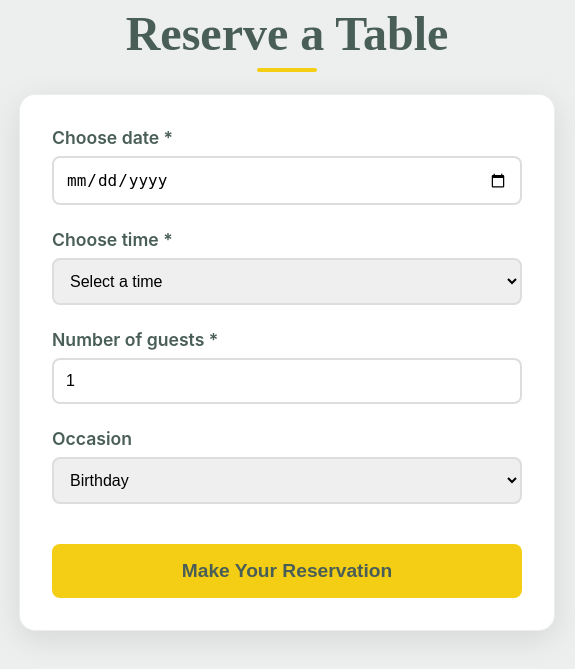
Test case: BookingForm › validates past dates
Step 1. Type "2023-01-01" into the date field labelled "Choose date *" → point(287, 181), box [52,156,522,205]
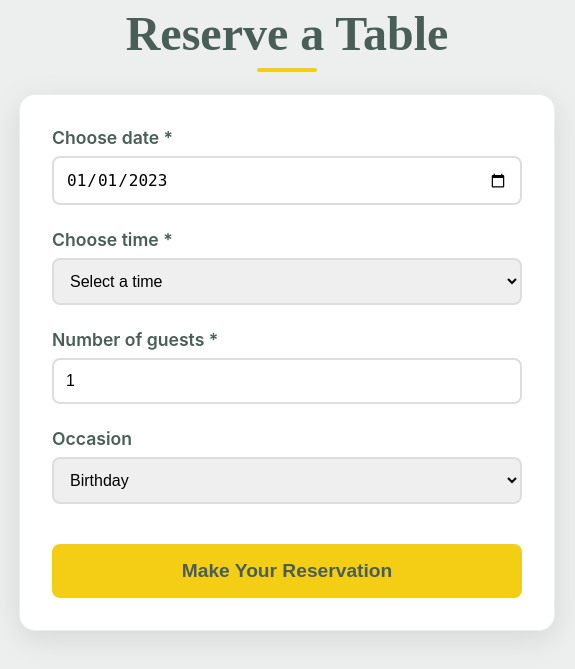
Step 2. Click the button with aria-label "submit reservation request" → point(287, 571), box [52,544,522,598]
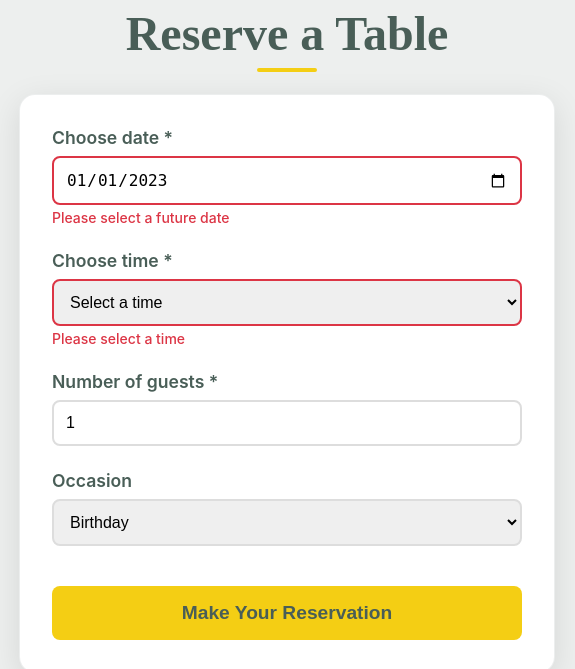
Check: the text "Please select a future date" is shown, box [52,209,230,226]
